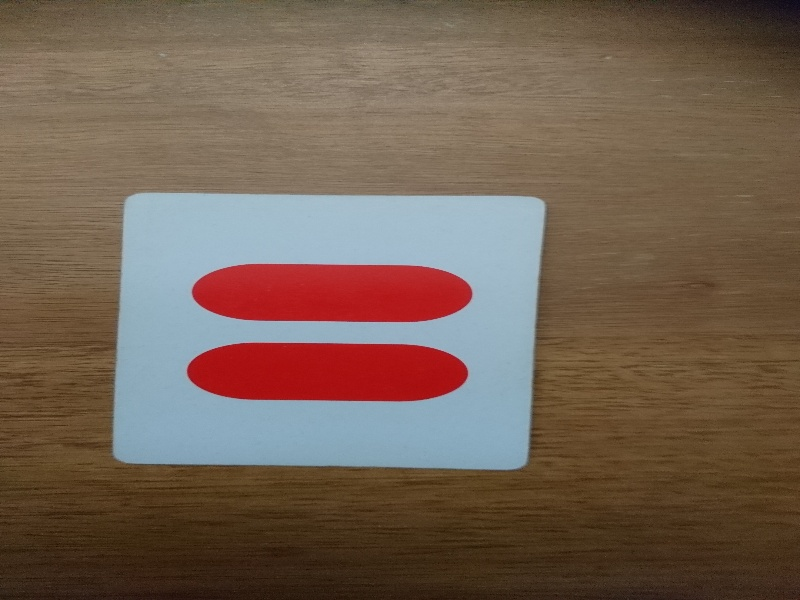2rof: (103, 173, 556, 482)
